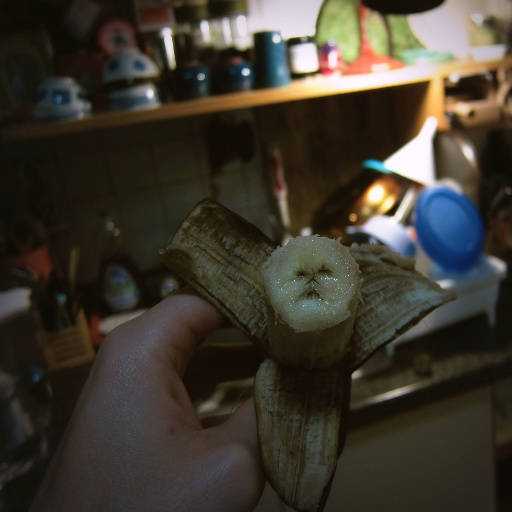hand: (48, 289, 299, 512)
